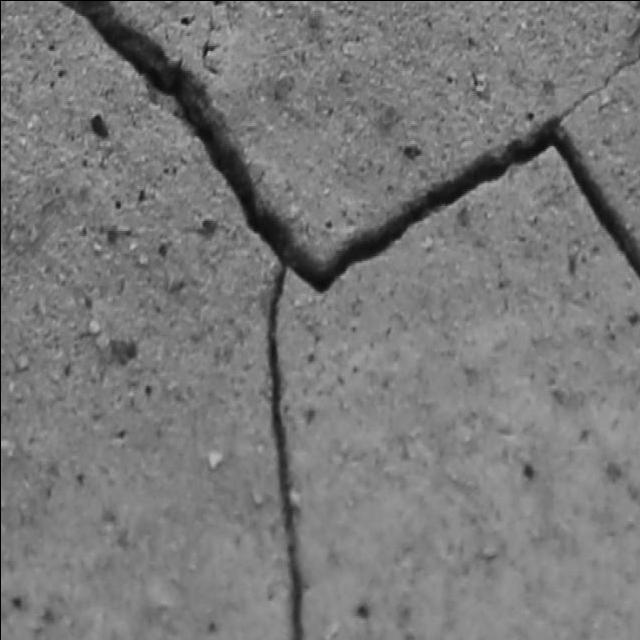SurfaceCrack: (2, 0, 640, 640)
